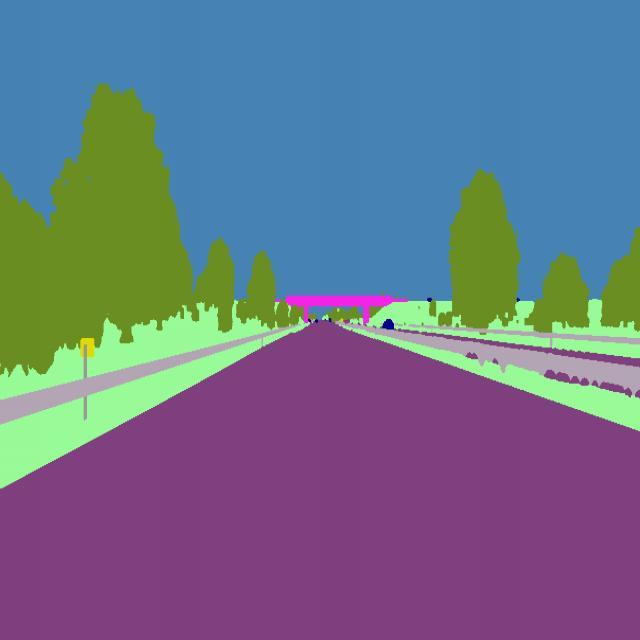safe: (378, 314, 398, 332)
